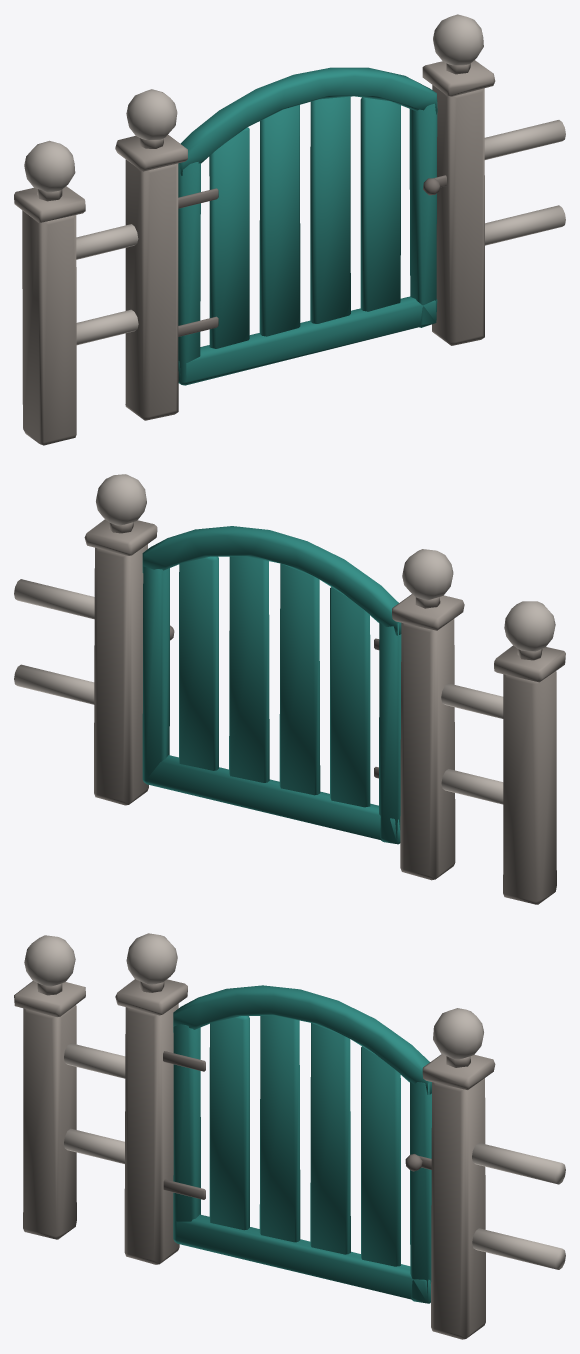
The model's file is gate-teal.glb.
3 views of the same model, one above another, from view 1: azimuth 30°, elevation 25°; view 2: azimuth 150°, elevation 25°; view 3: azimuth 330°, elevation 25° (orthographic).
Visible parts, largest first — view 1: gate_door, body; view 2: gate_door, body; view 3: gate_door, body.
Boxes of the visible parts, box(x1,y1,x2,y2) form: gate_door: box(178, 67, 446, 385); body: box(14, 14, 565, 445); gate_door: box(142, 526, 401, 844); body: box(14, 474, 565, 904); gate_door: box(163, 985, 431, 1303); body: box(14, 933, 565, 1339).
Bounding box in the file's own units: 2.1 × 1.2 × 0.1944.
